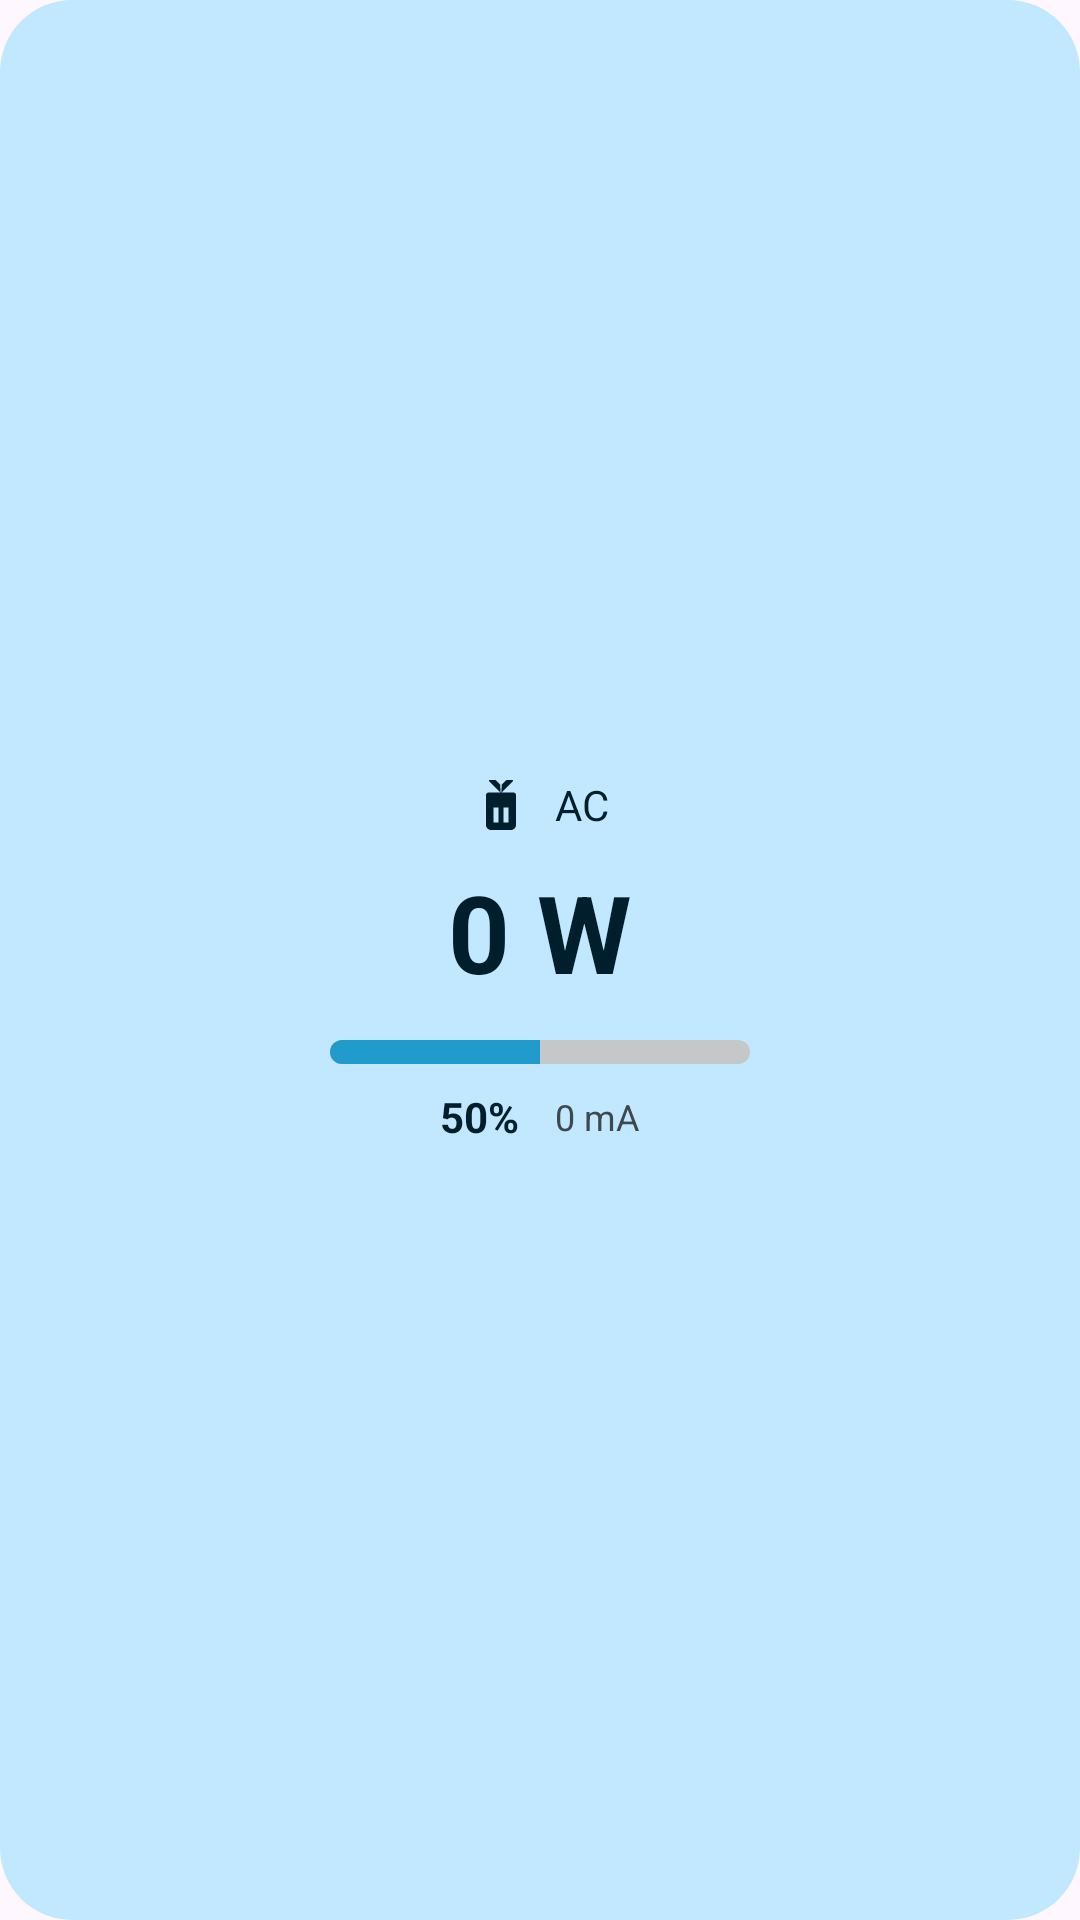

Screen size 1080px×1920px. Icon name, then its box in pixels as (x1,y1,x2,y2):
charging: (486,780,516,830)
